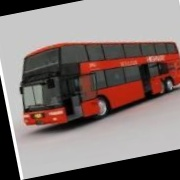bus: (12, 19, 180, 132)
